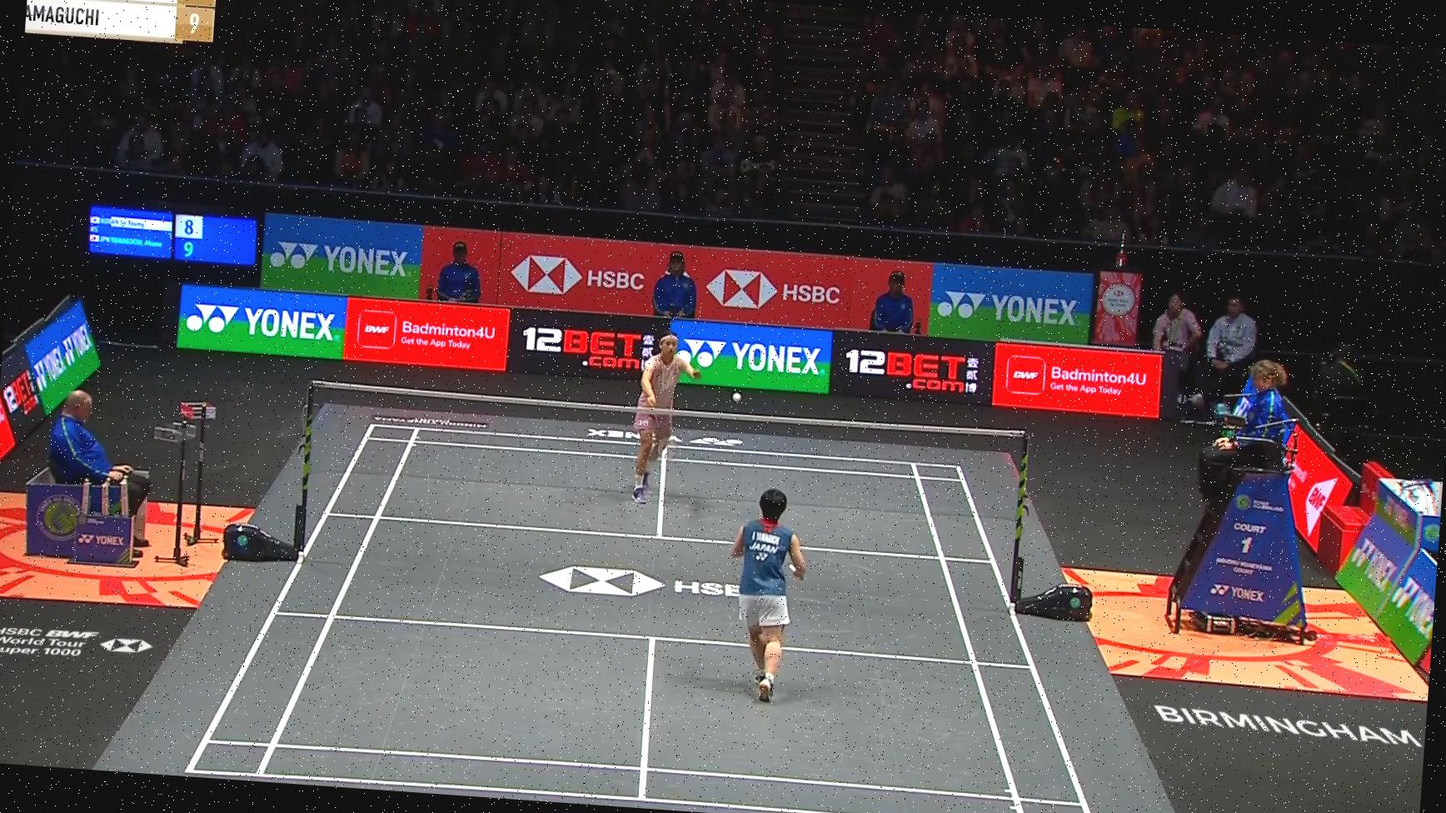Player 1: (615, 322, 712, 510)
Player 2: (715, 481, 822, 708)
shuttle: (728, 386, 748, 410)
